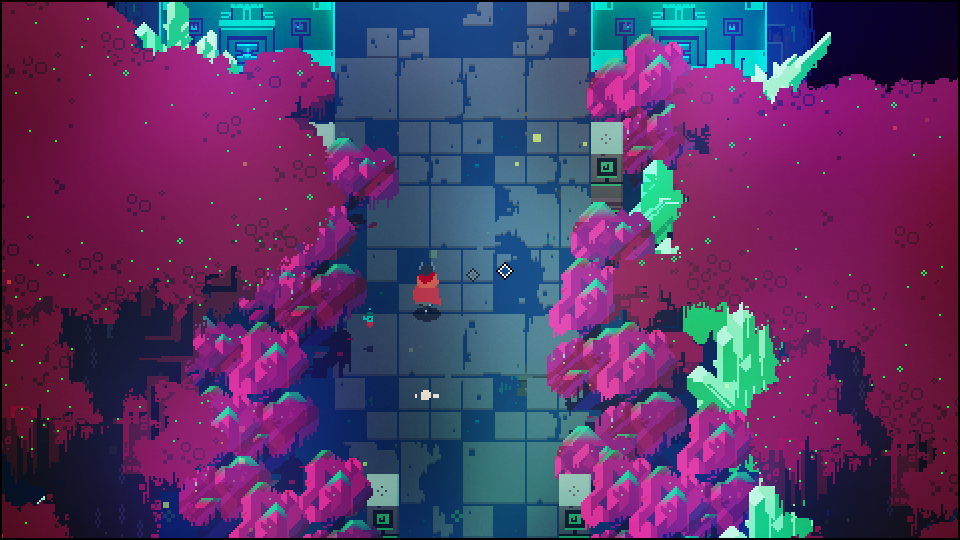player: (412, 264, 441, 312)
